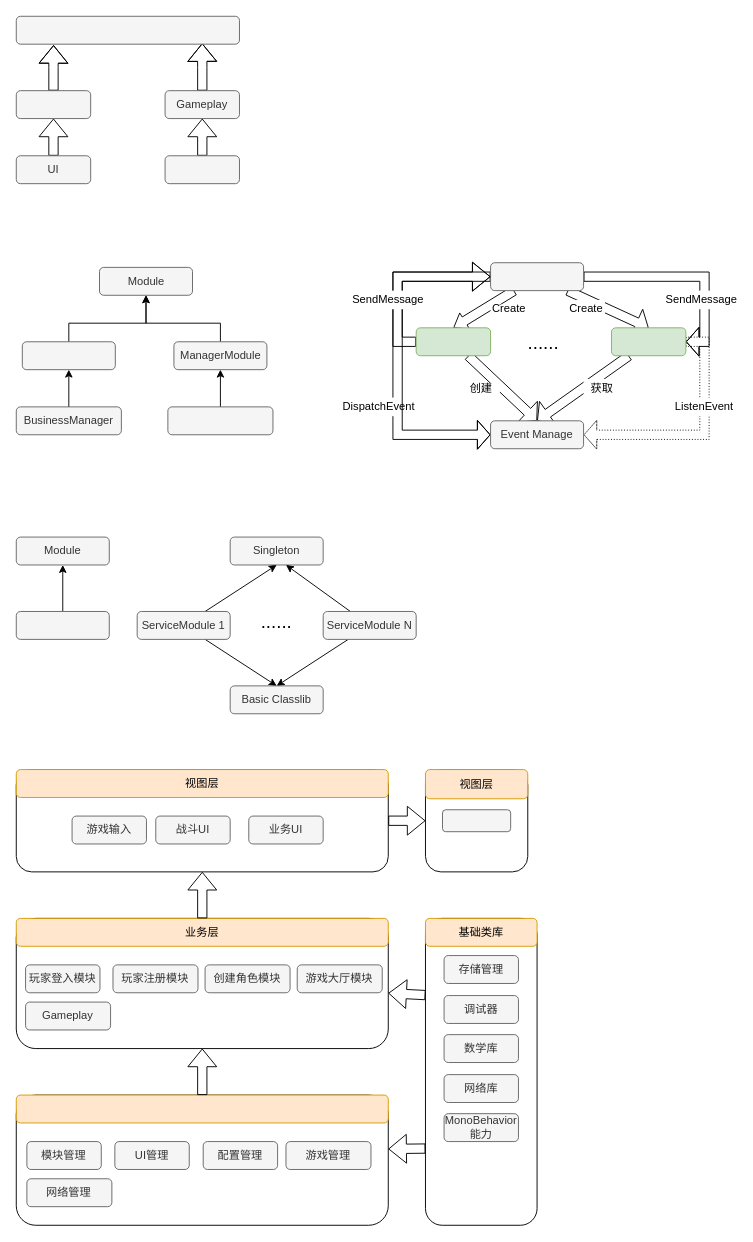
This 753x1242 diagram has some shape labels left out. Here are the shapes that lost their labels. From the top down, the centre of each, then its label:
At (127,29): "Basic Module".
At (53,104): "Business".
At (201,169): "Scene".
At (537,276): "ModuleManager".
At (68,355): "BusinessModule".
At (453,341): "Module 1".
At (648,341): "Module N".
At (220,420): "GameSystem".
At (62,625): "ServiceModule".
At (476,820): "UI控件".
At (201,1108): "服务层".
